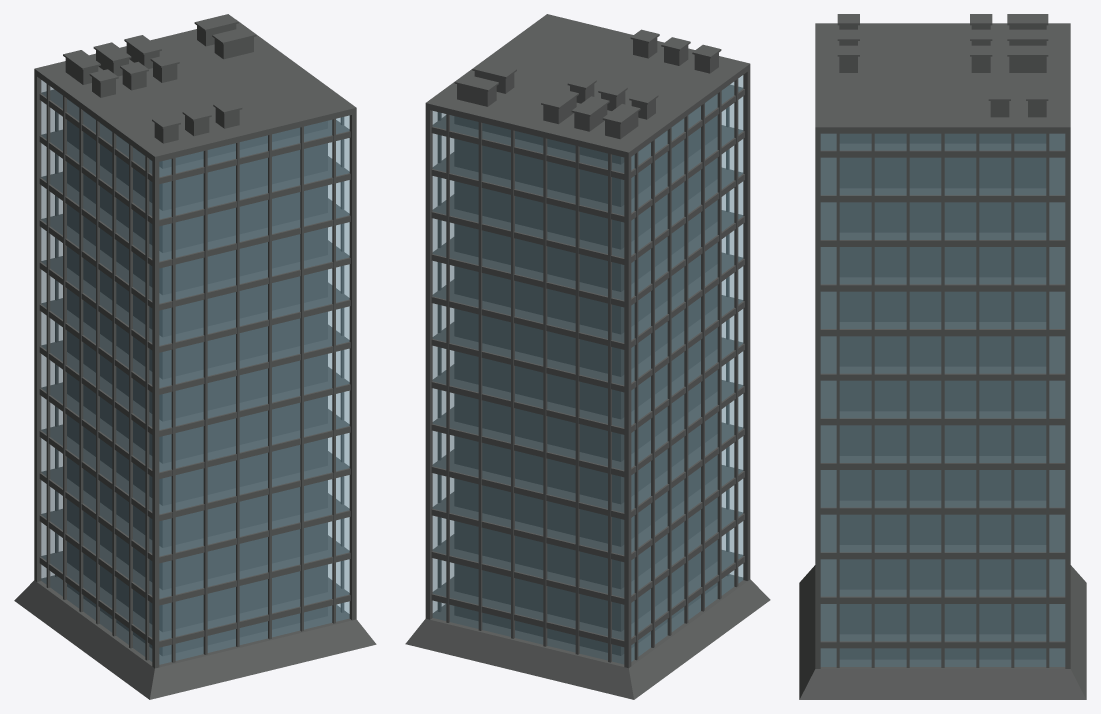
Rendered from Skyscrapers(2).glb.
3 views of the same model, side by side, from view 1: azimuth 30°, elevation 25°; view 2: azimuth 150°, elevation 25°; view 3: azimuth 270°, elevation 25° (orthographic). The views are drawn at different scales.
Parts seen in each view (by area): view 1: Root; view 2: Root; view 3: Root.
Part boxes in pixels (bbox=[...]): Root: bbox=[14, 14, 376, 699]; Root: bbox=[405, 14, 770, 699]; Root: bbox=[799, 14, 1086, 699].
Size of the model in its own units: 7.43 by 17.26 by 7.68.
